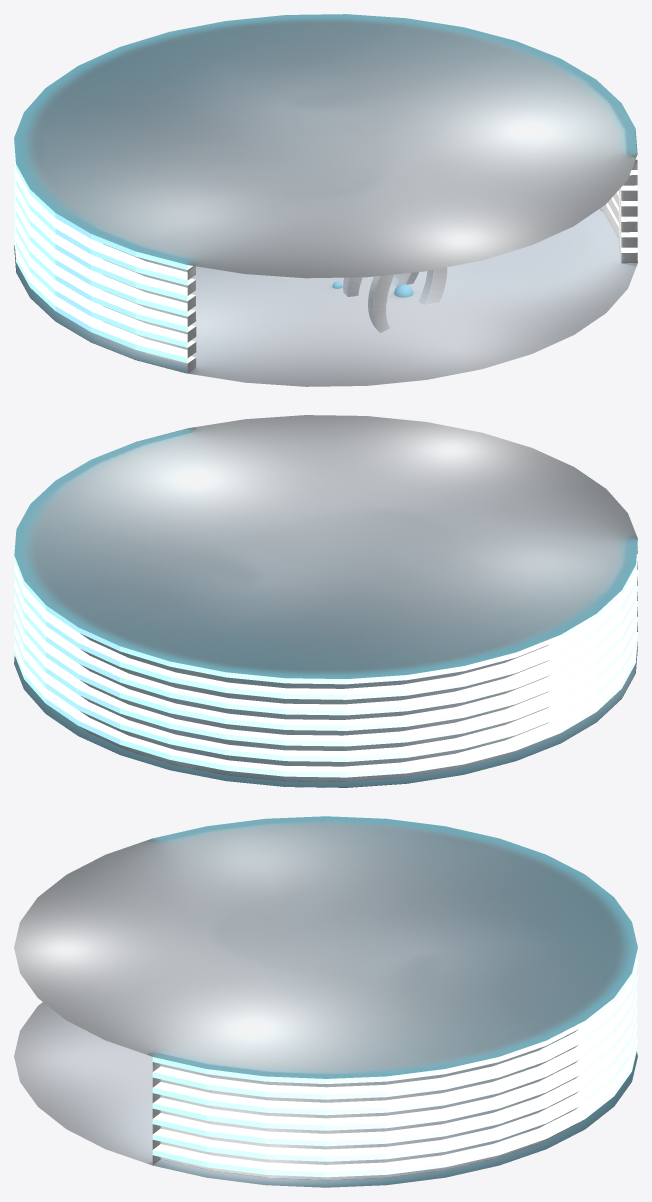
The model's file is white_classic.glb.
The picture shows the model from 3 angles, top to bottom: view 1: azimuth 30°, elevation 25°; view 2: azimuth 150°, elevation 25°; view 3: azimuth 270°, elevation 25°; orthographic projection.
Visible parts, largest first — view 1: biejin, floor_di, biejin.001, zhuangshi; view 2: biejin, biejin.001, floor_di; view 3: biejin, biejin.001, floor_di.
Boxes of the visible parts, bbox=[...] form: biejin: bbox=[14, 14, 637, 373]; floor_di: bbox=[14, 209, 637, 386]; biejin.001: bbox=[14, 140, 637, 363]; zhuangshi: bbox=[343, 267, 447, 332]; biejin: bbox=[14, 415, 637, 787]; biejin.001: bbox=[14, 541, 637, 777]; floor_di: bbox=[14, 647, 637, 787]; biejin: bbox=[14, 816, 637, 1180]; biejin.001: bbox=[152, 948, 637, 1177]; floor_di: bbox=[14, 1002, 637, 1187].
Bounding box in the file's own units: 29.34 × 6.78 × 29.32.
6 materials, 4 textured.
